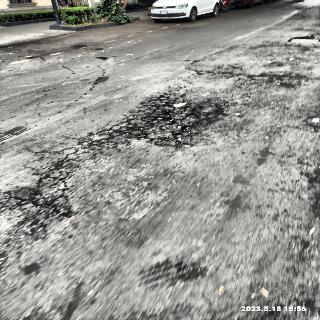alligator-crack: (5, 121, 116, 213), (117, 85, 226, 147)
crack: (183, 62, 239, 79)
